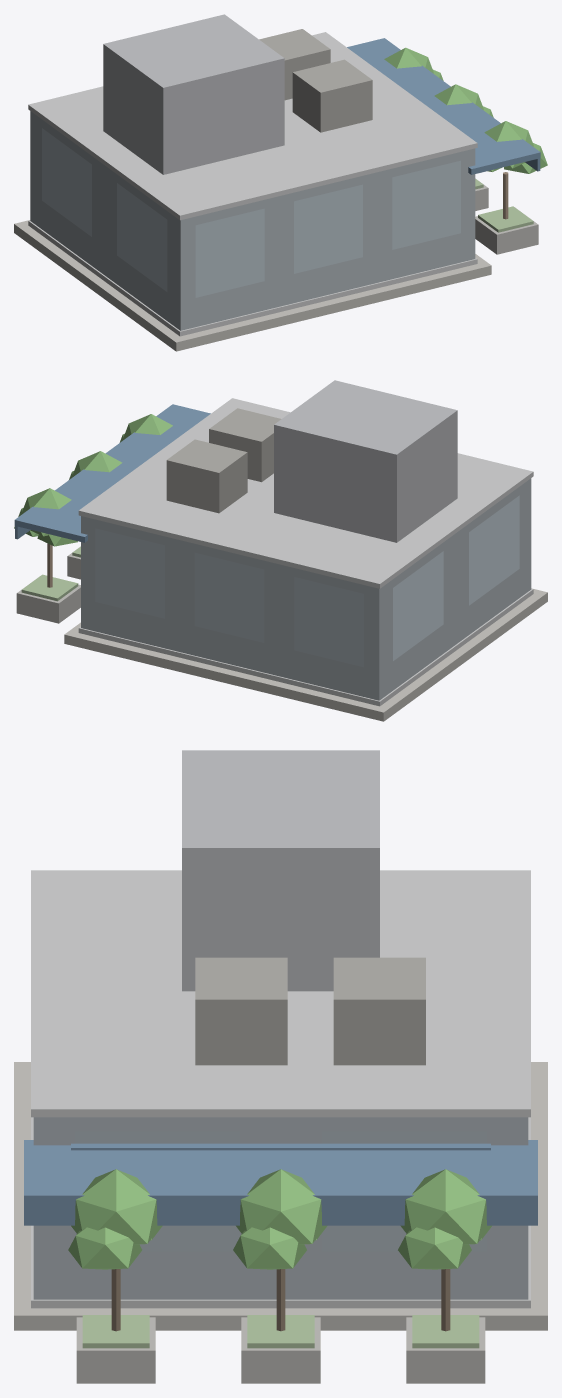
File: 11_retail_shops-07.glb
The picture shows the model from 3 angles, top to bottom: view 1: azimuth 30°, elevation 25°; view 2: azimuth 150°, elevation 25°; view 3: azimuth 270°, elevation 25°; orthographic projection. The views are drawn at different scales.
Size of the model in its own units: 11.32 by 5.98 by 8.1.
